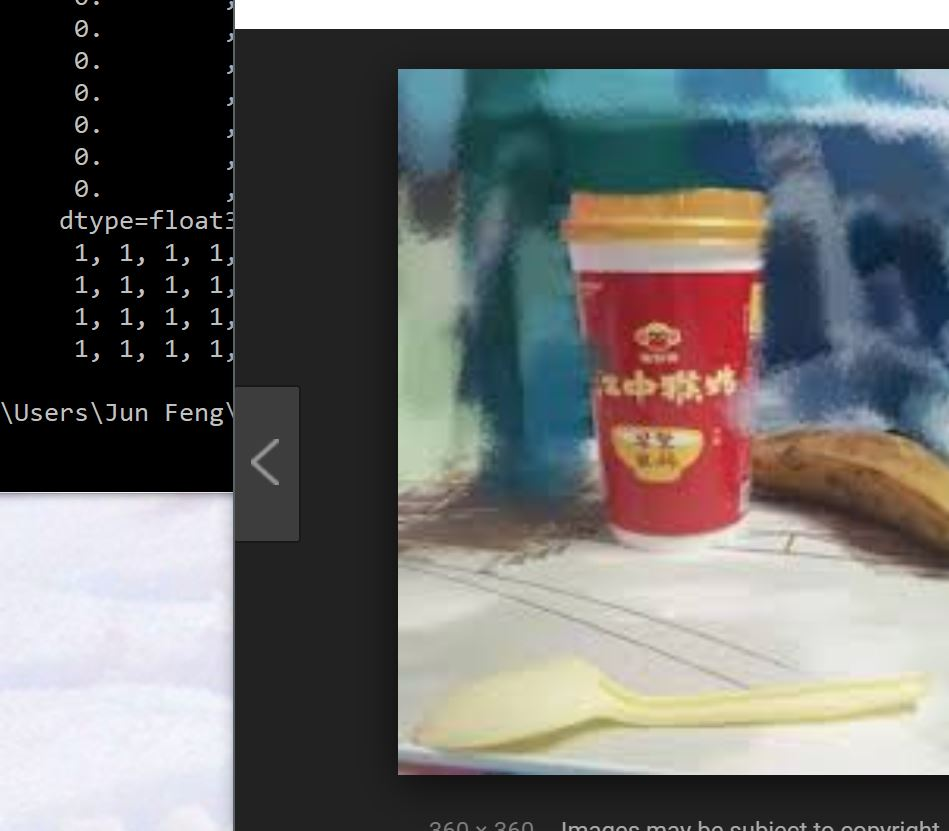cup: (566, 186, 767, 546)
